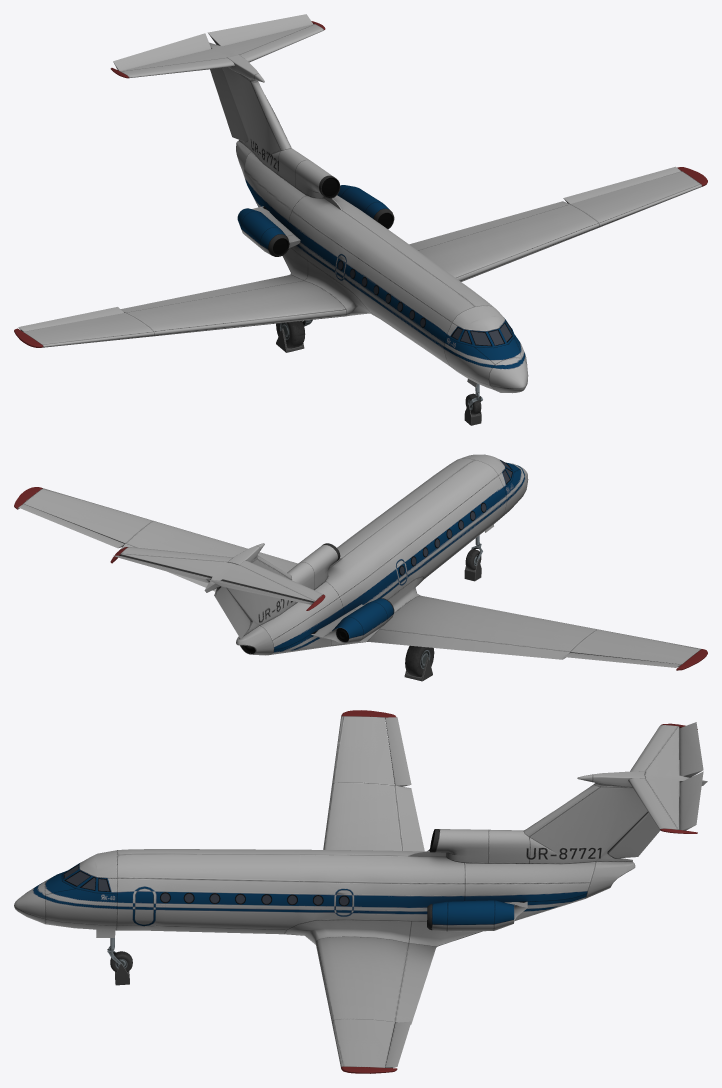
Rendered from Yak40.glb.
3 renders of one model, top to bottom at view 1: azimuth 30°, elevation 25°; view 2: azimuth 150°, elevation 25°; view 3: azimuth 270°, elevation 25°, orthographic. The views are drawn at different scales.
Parts seen in each view (by area): view 1: Plane:007, Circle:003, Circle:004, Circle, Circle:005, Plane:001, Circle:002; view 2: Plane:007, Circle:004, Circle:003, Circle, Plane:001, Circle:005, Circle:002, Circle:006, Circle:011; view 3: Plane:007, Circle:003, Circle:004, Circle, Circle:005, Plane:001, Circle:002, Circle:011.
Part boxes in pixels (x1,y1,x2,y2): Plane:007: (14,140,707,393); Circle:003: (222,55,340,198); Circle:004: (110,21,325,78); Circle: (237,185,394,256); Circle:005: (113,14,313,71); Plane:001: (18,166,681,331); Circle:002: (210,68,248,142); Plane:007: (14,454,707,670); Circle:004: (110,547,325,610); Circle:003: (207,543,340,638); Circle: (311,598,394,643); Plane:001: (18,504,681,667); Circle:005: (113,555,312,604); Circle:002: (214,586,250,638); Circle:006: (405,645,434,676); Circle:011: (399,502,486,575); Plane:007: (14,710,635,1073); Circle:003: (430,771,647,863); Circle:004: (628,723,707,833); Circle: (427,849,527,931); Circle:005: (679,722,703,830); Plane:001: (385,717,411,1067); Circle:002: (607,812,660,858); Circle:011: (160,892,349,905).
Bounding box in the file's own units: 24.73 × 6.75 × 20.04.
2 materials, 2 textured.
